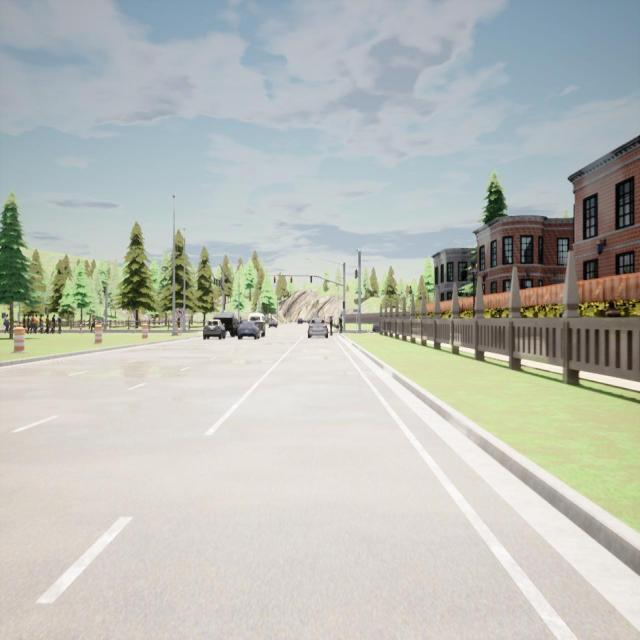Pedestrian: (3, 314, 10, 334), (338, 313, 344, 334), (30, 313, 36, 333), (90, 315, 96, 334), (51, 314, 57, 332), (39, 314, 44, 333), (45, 314, 50, 333), (329, 315, 333, 336), (26, 314, 30, 334), (58, 314, 62, 334), (22, 313, 26, 332), (35, 314, 39, 333), (79, 322, 83, 334)
Traffic_Signs: (176, 308, 182, 318), (354, 309, 361, 313)
Vehicle: (213, 312, 237, 337), (203, 319, 225, 340), (248, 313, 266, 337), (238, 321, 260, 340), (308, 318, 328, 338), (268, 319, 278, 328), (297, 318, 303, 325)
traffic_light: (354, 269, 358, 279), (290, 275, 293, 283), (342, 300, 345, 308), (274, 274, 276, 284), (310, 275, 312, 283), (216, 279, 218, 286), (213, 278, 215, 284), (218, 280, 220, 286)
